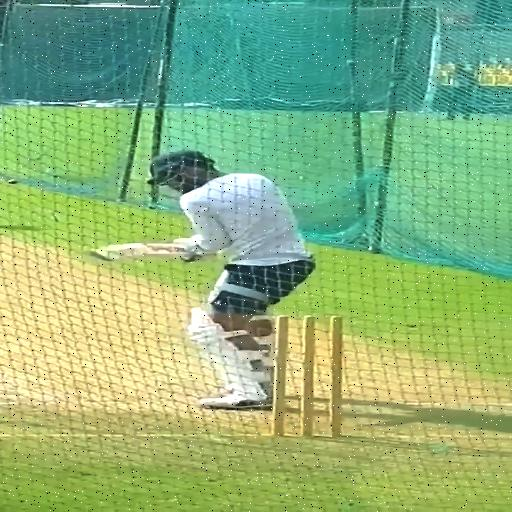Cricket bat: (92, 243, 188, 261)
